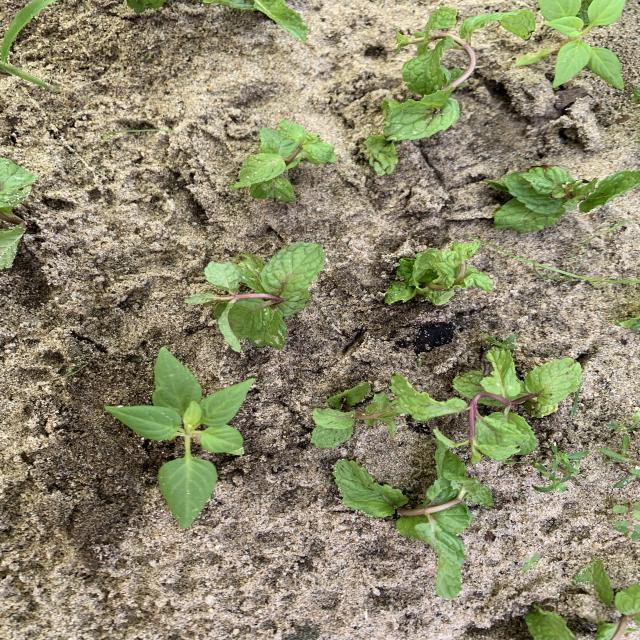crop: (365, 8, 511, 174), (336, 449, 493, 597), (388, 345, 582, 463), (189, 243, 324, 349), (525, 562, 639, 639), (233, 121, 335, 200), (537, 0, 624, 87), (486, 167, 593, 231), (384, 241, 492, 304), (311, 384, 402, 447), (204, 1, 307, 39), (1, 159, 35, 267), (126, 1, 165, 11)
weed: (105, 347, 254, 528), (480, 241, 635, 284), (600, 446, 639, 487), (548, 446, 587, 487), (534, 462, 567, 491), (615, 500, 639, 539), (64, 362, 89, 377), (614, 318, 639, 330), (523, 553, 539, 570)
